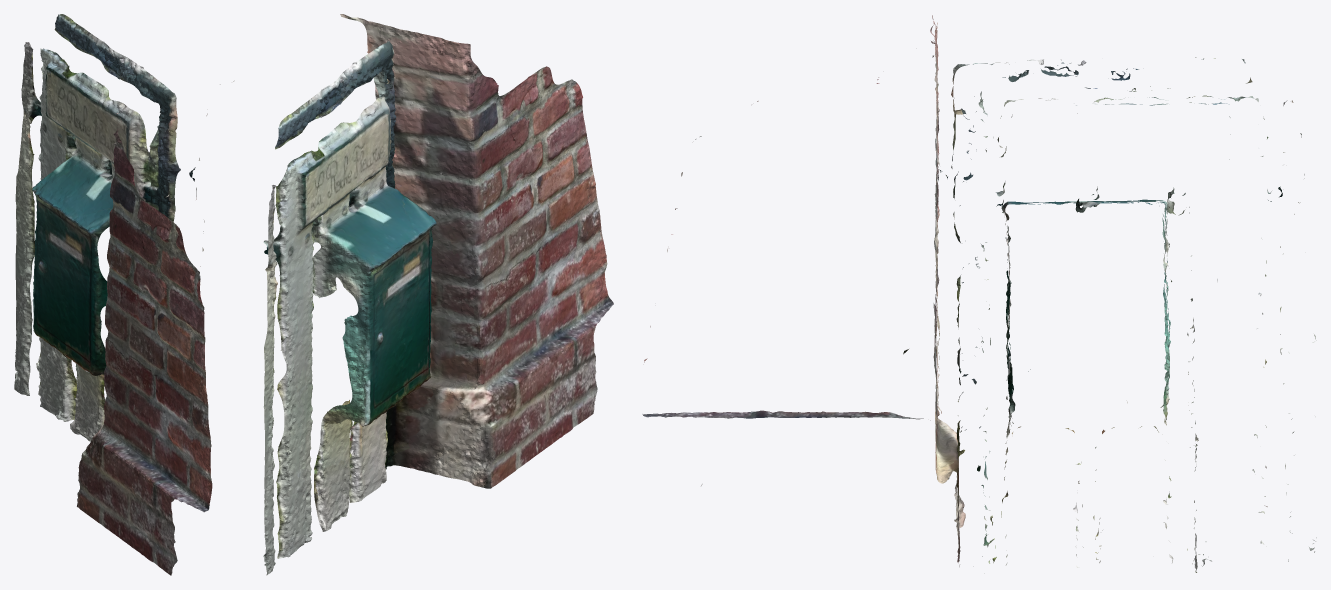
Rendered from S038_LaRocheFleurie.glb.
3 renders of one model, left to right at view 1: azimuth 30°, elevation 25°; view 2: azimuth 150°, elevation 25°; view 3: azimuth 270°, elevation 25°, orthographic. The views are drawn at different scales.
Size of the model in its own units: 0.369 by 0.9331 by 1.09.
1 material, 1 textured.
